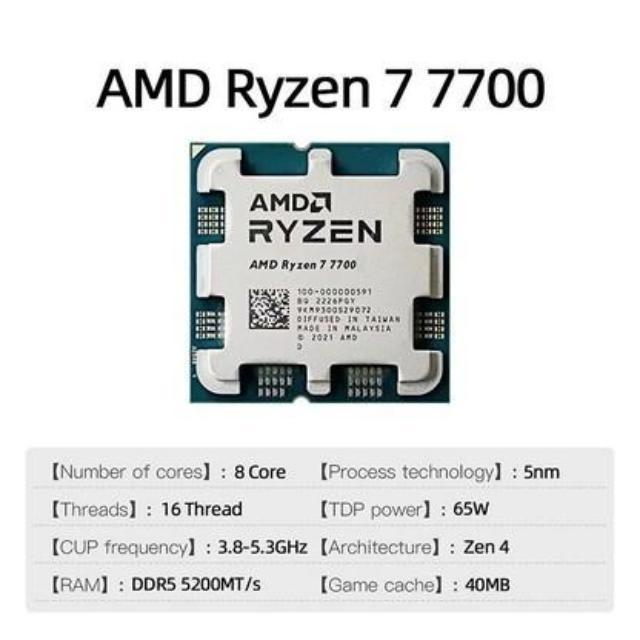CPU: (192, 144, 452, 406)
